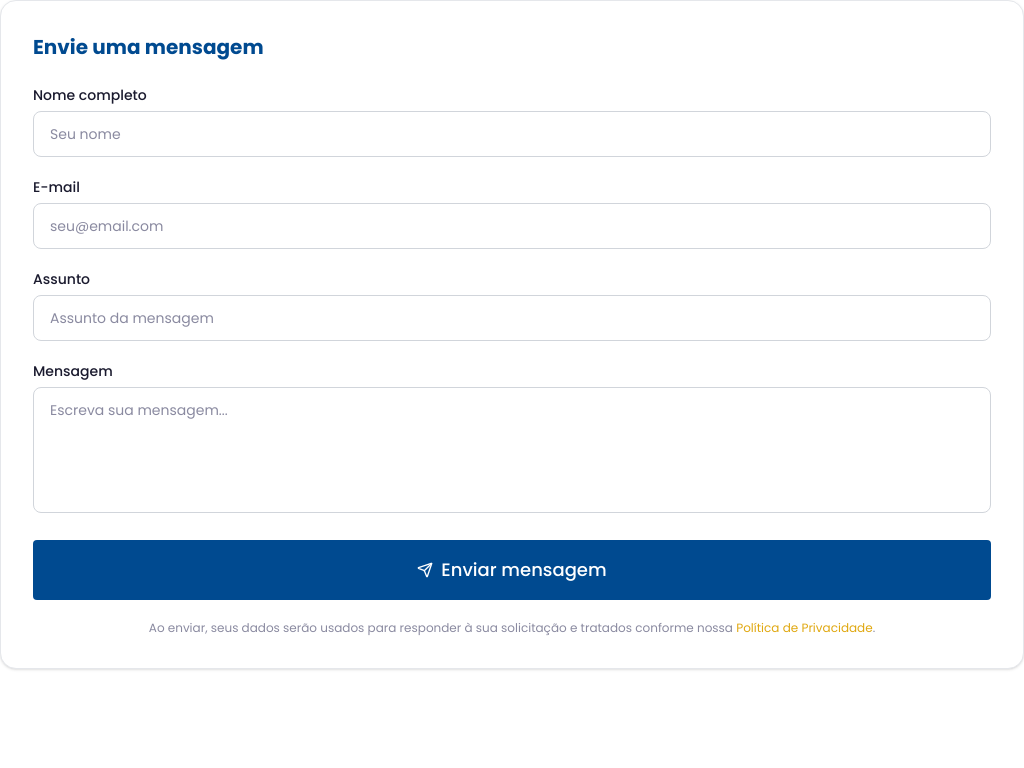
it: ContactForm › mostra erro genérico e preserva os dados quando a rede falha
The width and height of the screenshot is (1024, 768).
Type "Maria da Silva" into the field labelled "Nome completo" at (512, 134), box [33,111,991,157]
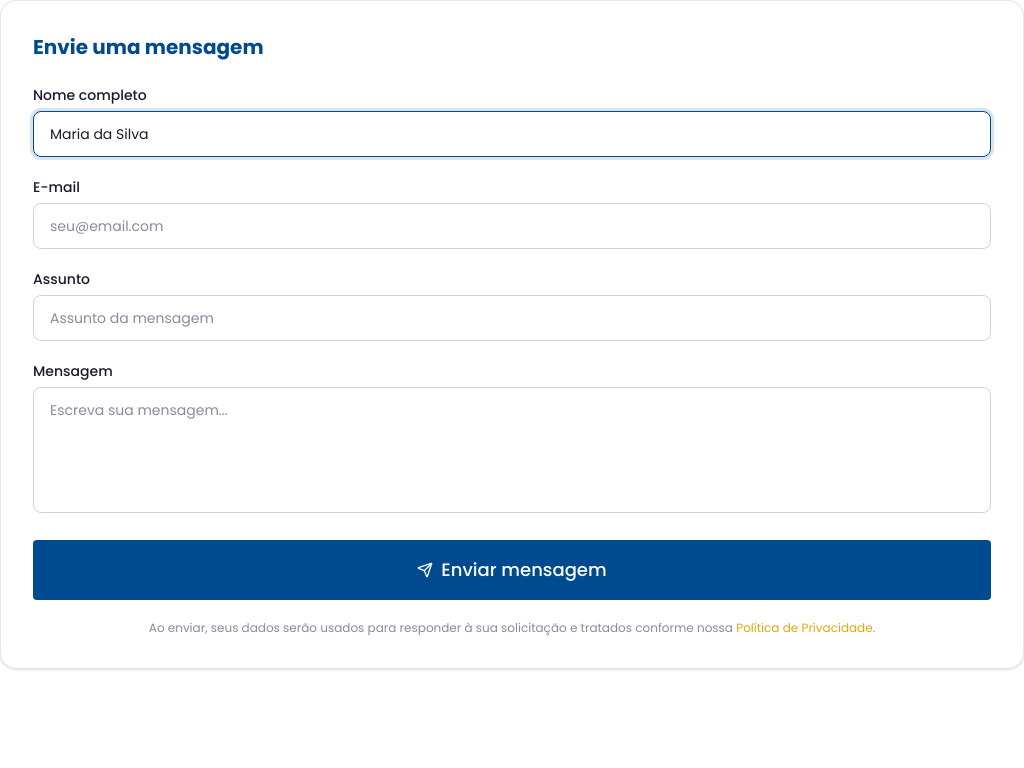
Type "maria@example.com" into the field labelled "E-mail" at (512, 226), box [33,203,991,249]
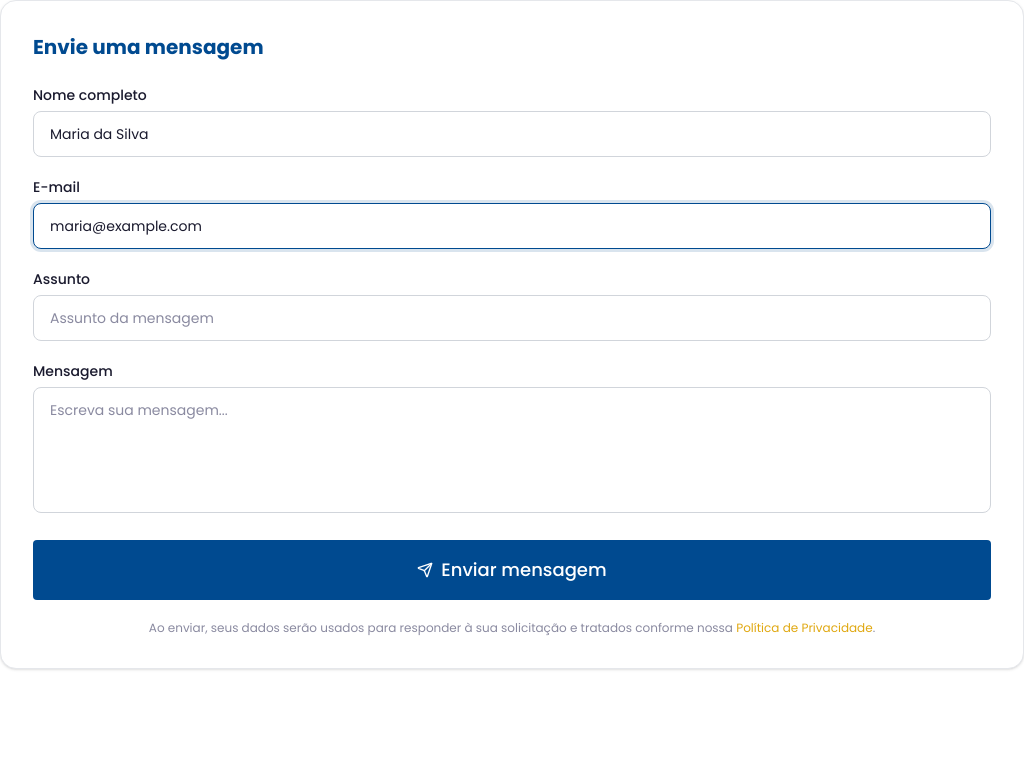
Type "Quero saber mais" into the field labelled "Assunto" at (512, 318), box [33,295,991,341]
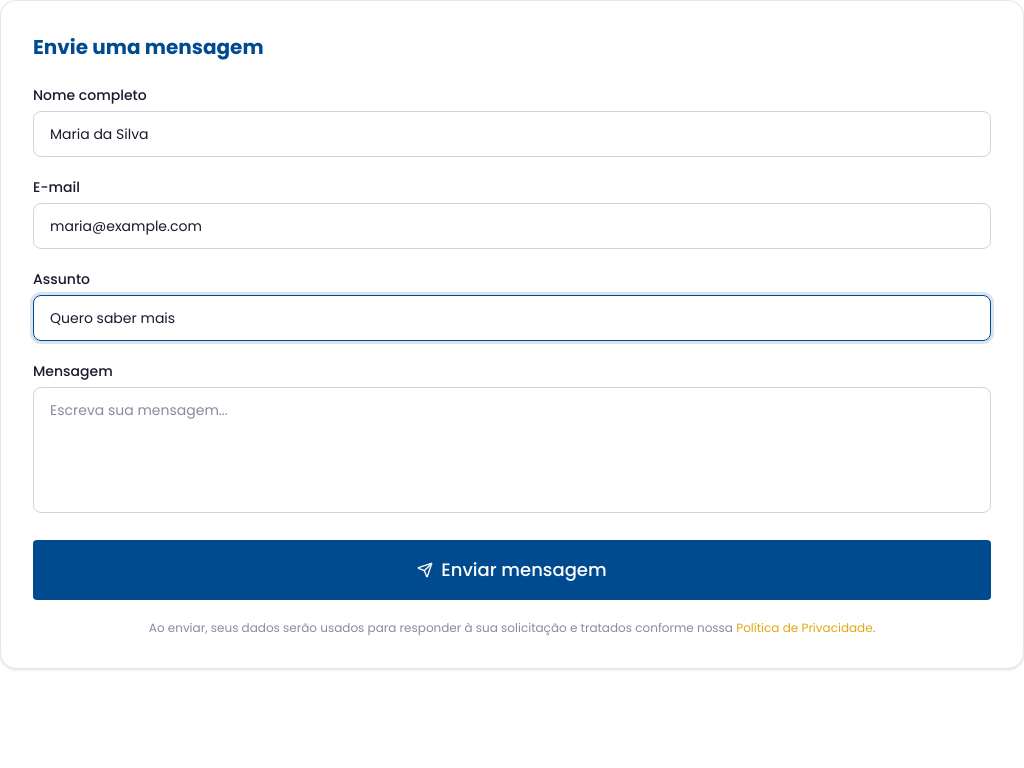
Type "Gostaria de conhecer os serviços oferecidos." into the text box labelled "Mensagem" at (512, 450), box [33,387,991,513]
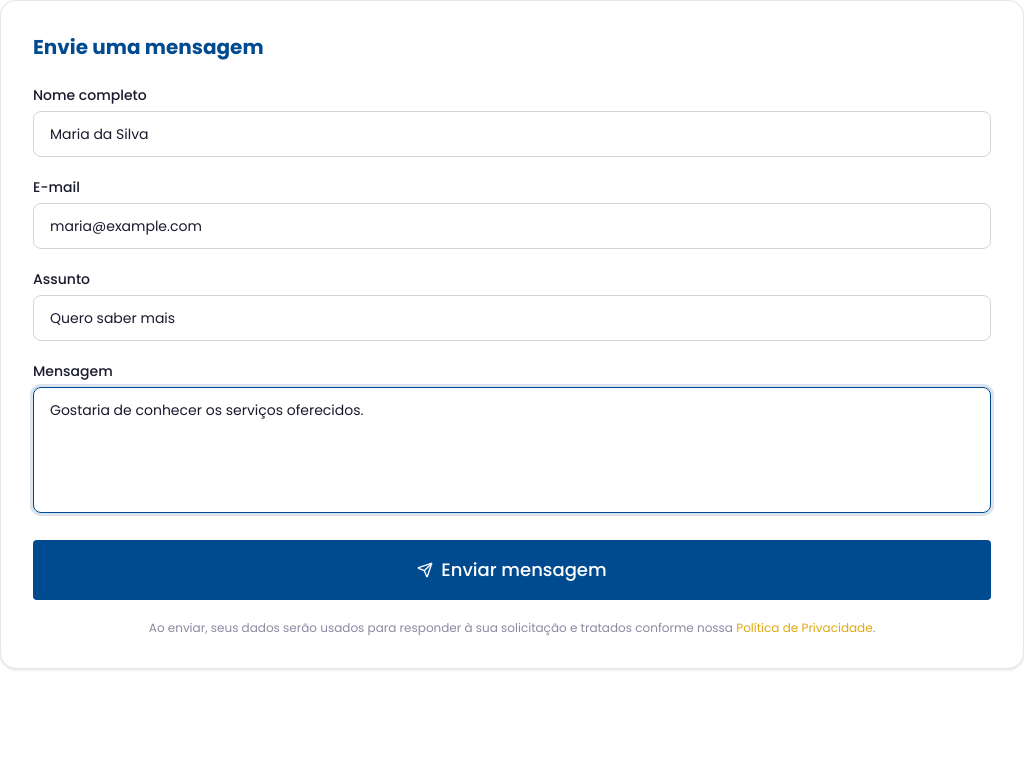
Click the button "Enviar mensagem" at (512, 570), box [33,540,991,600]
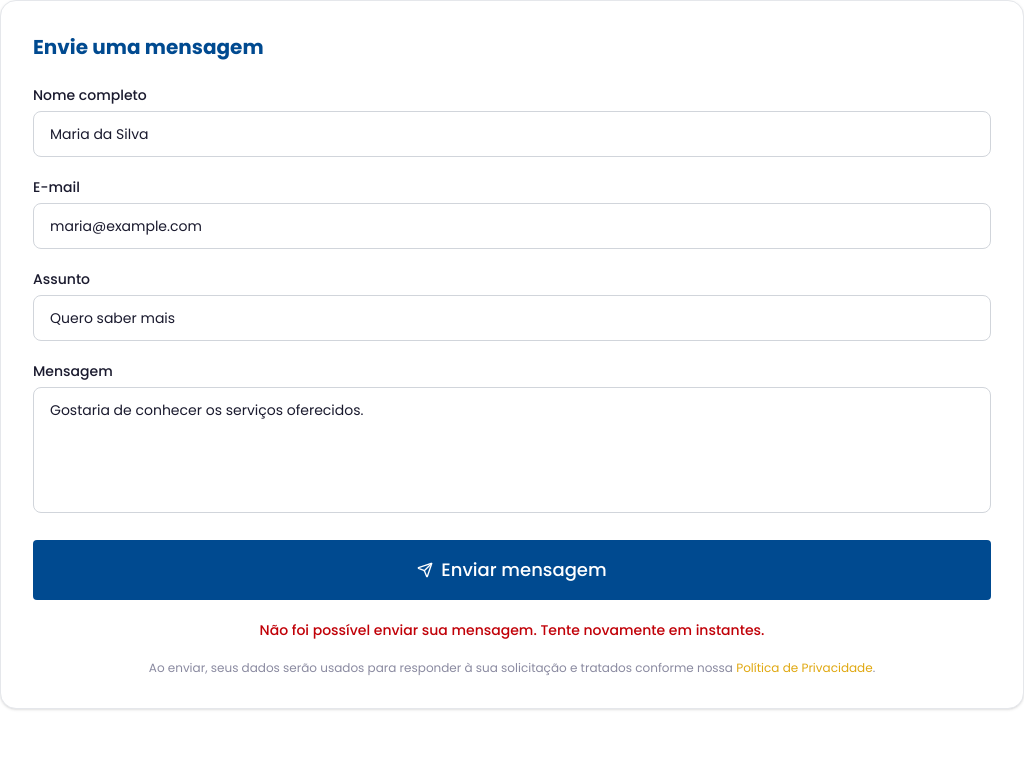
Result: the message reads "Não foi possível enviar sua mensagem. Tente novamente em instantes." at [260,620,764,640]
